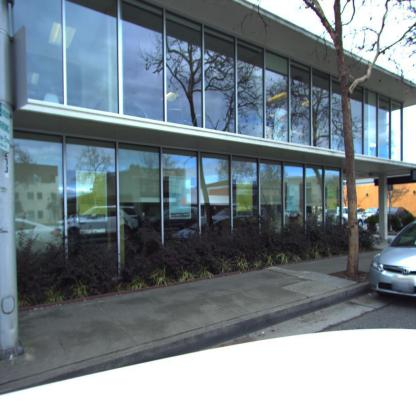car: (368, 219, 416, 305), (60, 205, 136, 242)
